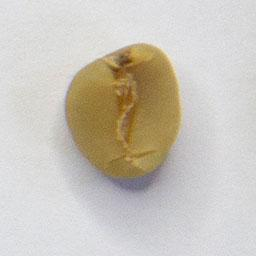defect: (63, 41, 184, 182)
